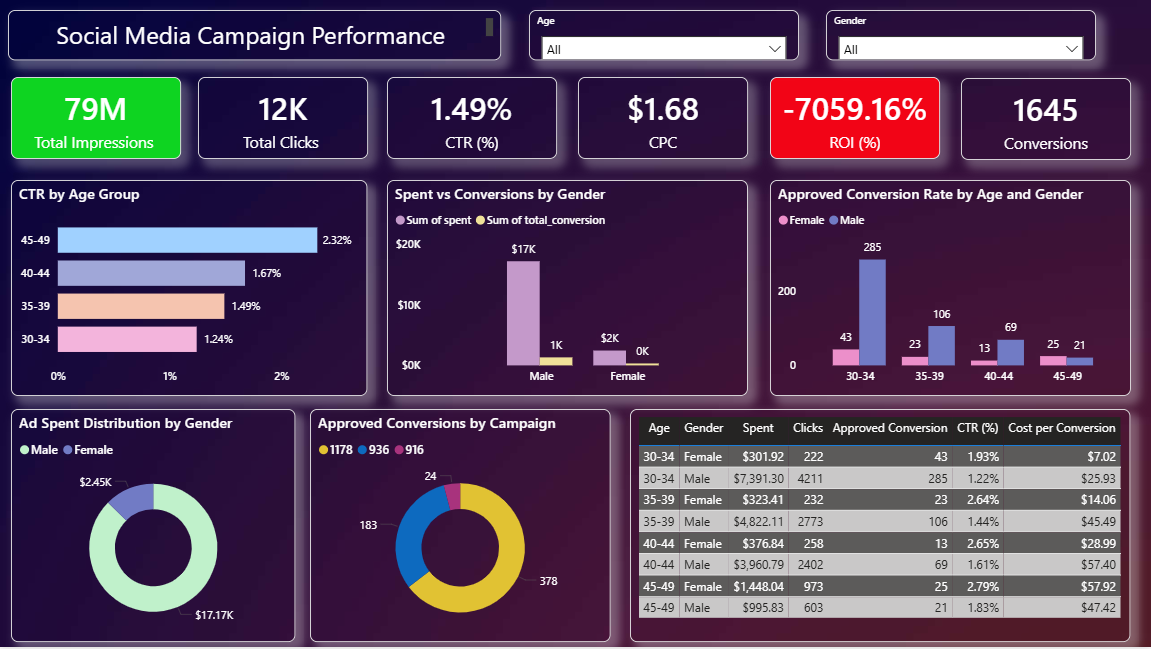

The dashboard page shown, as its layout file describes it:
{"tool":"powerbi","page":{"name":"Page 1","canvas":[1280,720],"ordinal":0},"visuals":[{"type":"textbox","box":[10,12.5,547.5,56.2],"z":0},{"type":"card","fields":{"Values":["Sum(data.impressions)"]},"box":[13.8,86.2,188.8,91.2],"z":1000},{"type":"card","fields":{"Values":["Sum(data.clicks)"]},"box":[221.2,86.2,188.8,91.2],"z":2000},{"type":"card","fields":{"Values":["data.CTR (%)"]},"box":[431.2,86.2,188.8,91.2],"z":3000},{"type":"card","fields":{"Values":["data.CPC"]},"box":[643.8,86.2,188.8,91.2],"z":4000},{"type":"card","fields":{"Values":["data.ROI (%)"]},"box":[856.2,86.2,188.8,91.2],"z":5000},{"type":"card","fields":{"Values":["Sum(data.total_conversion)"]},"box":[1068.8,87.5,188.8,91.2],"z":6000},{"type":"barChart","title":"CTR by Age Group ","fields":{"Y":["data.CTR (%)"],"Category":["data.age"]},"box":[13.8,201.2,396.2,240],"z":7000},{"type":"clusteredColumnChart","title":"Spent vs Conversions by Gender","fields":{"Category":["data.gender"],"Y":["Sum(data.spend)","Sum(data.total_conversion)"]},"box":[431.2,201.2,401.2,240],"z":8000},{"type":"clusteredColumnChart","title":"Approved Conversion Rate by Age and Gender ","fields":{"Category":["data.age"],"Y":["Sum(data.approved_conversion)"],"Series":["data.gender"]},"box":[856.2,201.2,401.2,240],"z":9000},{"type":"donutChart","title":"Approved Conversions by Campaign","fields":{"Category":["data.campaign_id"],"Y":["Sum(data.approved_conversion)"]},"box":[345,455,333.8,258.8],"z":10000},{"type":"donutChart","title":"Ad Spent Distribution by Gender","fields":{"Category":["data.gender"],"Y":["Sum(data.spend)"]},"box":[13.8,455,316.2,258.8],"z":11000},{"type":"tableEx","title":"Approved Conversions by Campaign","fields":{"Values":["data.age","data.gender","Sum(data.spent)","Sum(data.clicks)","Sum(data.approved_conversion)","data.CTR (%)","data.Cost per Conversion"]},"box":[701.2,455,556.2,258.8],"z":12000},{"type":"slicer","title":"Age","fields":{"Values":["data.age"]},"box":[588.8,12.5,300,56.2],"z":12001},{"type":"slicer","title":"Gender ","fields":{"Values":["data.gender"]},"box":[918.8,12.5,300,56.2],"z":12002}]}

Visuals, with their boxes in screenshot pixels (x1, y1, x2, y2), scaled from the page's 1280x720 canvas onto the 1151x649 screenshot:
textbox: 9, 11, 501, 62
card - Sum(data.impressions): 12, 78, 182, 160
card - Sum(data.clicks): 199, 78, 369, 160
card - data.CTR (%): 388, 78, 558, 160
card - data.CPC: 579, 78, 749, 160
card - data.ROI (%): 770, 78, 940, 160
card - Sum(data.total_conversion): 961, 79, 1131, 161
"CTR by Age Group " barChart: 12, 181, 369, 398
"Spent vs Conversions by Gender" clusteredColumnChart: 388, 181, 749, 398
"Approved Conversion Rate by Age and Gender " clusteredColumnChart: 770, 181, 1131, 398
"Approved Conversions by Campaign" donutChart: 310, 410, 610, 643
"Ad Spent Distribution by Gender" donutChart: 12, 410, 297, 643
"Approved Conversions by Campaign" tableEx: 631, 410, 1131, 643
"Age" slicer: 529, 11, 799, 62
"Gender " slicer: 826, 11, 1096, 62
